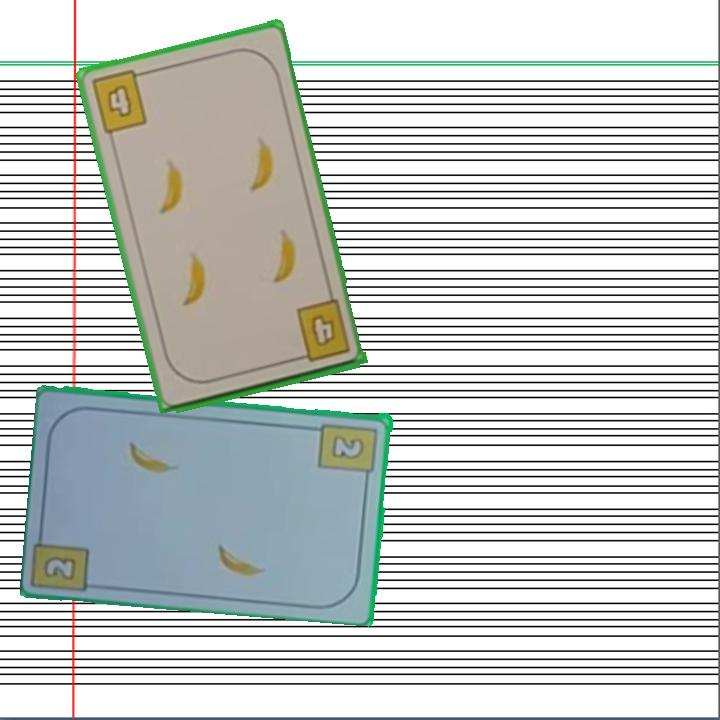2b: (316, 419, 380, 485), (39, 552, 80, 583)
4b: (290, 296, 354, 366), (87, 67, 150, 137)
